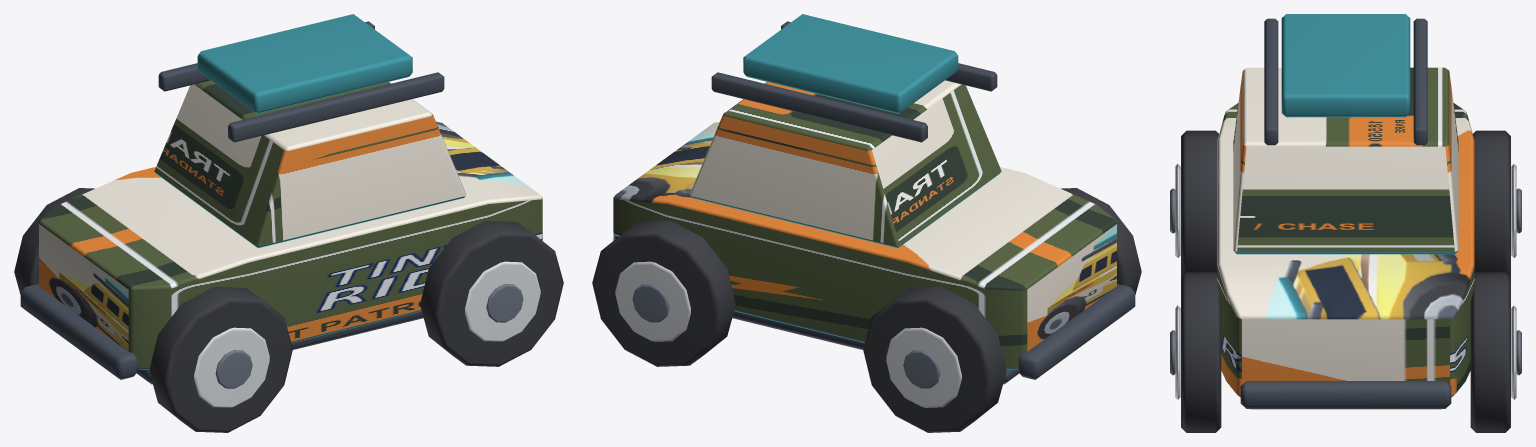
The picture shows the model from 3 angles, left to right: view 1: azimuth 30°, elevation 25°; view 2: azimuth 150°, elevation 25°; view 3: azimuth 270°, elevation 25°; orthographic projection. The views are drawn at different scales.
Visible parts, largest first — view 1: DP-04_connected_shell, DP-04_cabin, utility load, Tire.002, Tire, utility rail, front bumper, Rim, Rim.002, Tire.001, underbody, Hub.002 (+2 smaller); view 2: DP-04_connected_shell, DP-04_cabin, utility load, Tire.003, Tire.001, utility rail.001, front bumper, Rim.001, Rim.003, Tire, underbody, Hub.003 (+2 smaller); view 3: DP-04_connected_shell, DP-04_cabin, utility load, Tire.002, Tire.003, rear bumper, Tire, Tire.001, utility rail, utility rail.001, Rim.002, Rim.003 (+2 smaller).
Part boxes in pixels (box(x1,y1,x2,y2)): DP-04_connected_shell: box(39, 121, 542, 369); DP-04_cabin: box(154, 80, 466, 248); utility load: box(197, 14, 412, 113); Tire.002: box(420, 220, 563, 366); Tire: box(149, 286, 292, 432); utility rail: box(228, 72, 444, 142); front bumper: box(20, 284, 138, 379); Rim: box(194, 327, 269, 407); Rim.002: box(465, 261, 540, 341); Tire.001: box(14, 188, 94, 294); underbody: box(136, 311, 423, 384); Hub.002: box(486, 284, 523, 322); DP-04_connected_shell: box(613, 121, 1116, 369); DP-04_cabin: box(689, 80, 1001, 248); utility load: box(743, 14, 958, 113); Tire.003: box(592, 220, 735, 366); Tire.001: box(863, 286, 1006, 432); utility rail.001: box(711, 72, 927, 142); front bumper: box(1017, 284, 1135, 379); Rim.001: box(886, 327, 961, 407); Rim.003: box(615, 261, 690, 341); Tire: box(1061, 188, 1141, 294); underbody: box(732, 311, 1019, 384); Hub.003: box(632, 284, 669, 322); DP-04_connected_shell: box(1217, 103, 1474, 397); DP-04_cabin: box(1233, 67, 1458, 254); utility load: box(1281, 14, 1410, 117); Tire.002: box(1181, 272, 1221, 432); Tire.003: box(1470, 272, 1510, 432); rear bumper: box(1240, 381, 1451, 408); Tire: box(1181, 130, 1218, 277); Tire.001: box(1473, 130, 1510, 277); utility rail: box(1264, 18, 1278, 145); utility rail.001: box(1413, 18, 1427, 145); Rim.002: box(1175, 305, 1180, 399); Rim.003: box(1511, 305, 1516, 399).
Size of the model in its own units: 351 by 220 by 227.
